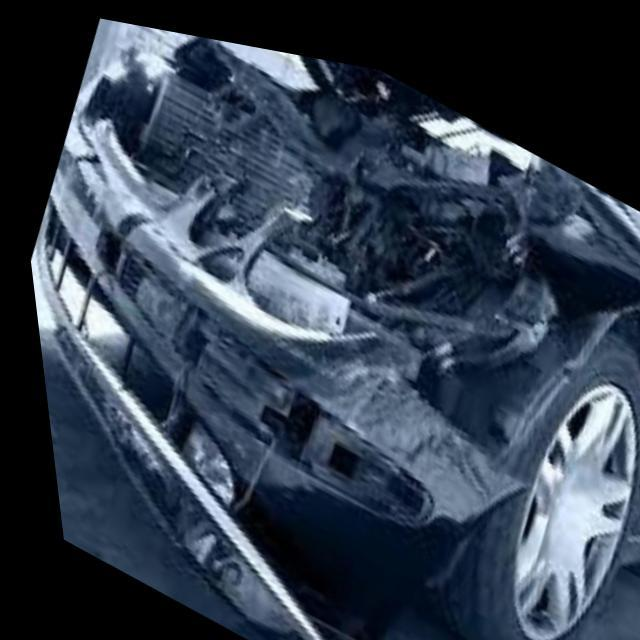crash: (33, 29, 640, 640)
